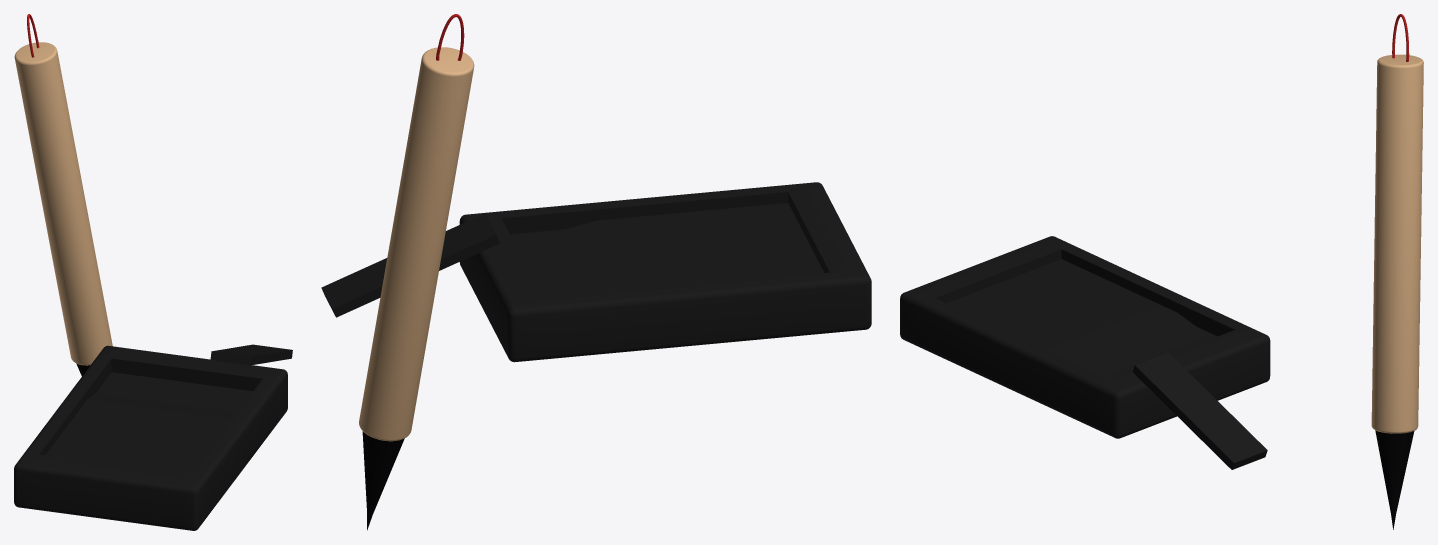
The model's file is Inkstone.fbx.
3 views of the same model, side by side, from view 1: azimuth 30°, elevation 25°; view 2: azimuth 150°, elevation 25°; view 3: azimuth 270°, elevation 25° (orthographic). The views are drawn at different scales.
Visible parts, largest first — view 1: Cube_2, Cylinder, Cube_3; view 2: Cube_2, Cylinder, Cube_3, Cone; view 3: Cube_2, Cylinder, Cube_3, Cone.
Part boxes in pixels (x1,y1,x2,y2): Cube_2: (14, 345, 287, 530); Cylinder: (14, 42, 112, 365); Cube_3: (210, 344, 292, 365); Cube_2: (459, 182, 871, 362); Cylinder: (359, 47, 474, 441); Cube_3: (321, 213, 499, 317); Cone: (362, 431, 404, 530); Cube_2: (900, 236, 1270, 438); Cylinder: (1371, 54, 1423, 433); Cube_3: (1132, 352, 1267, 469); Cone: (1375, 430, 1414, 529).
Bounding box in the file's own units: 76.59 × 89.13 × 88.73.
